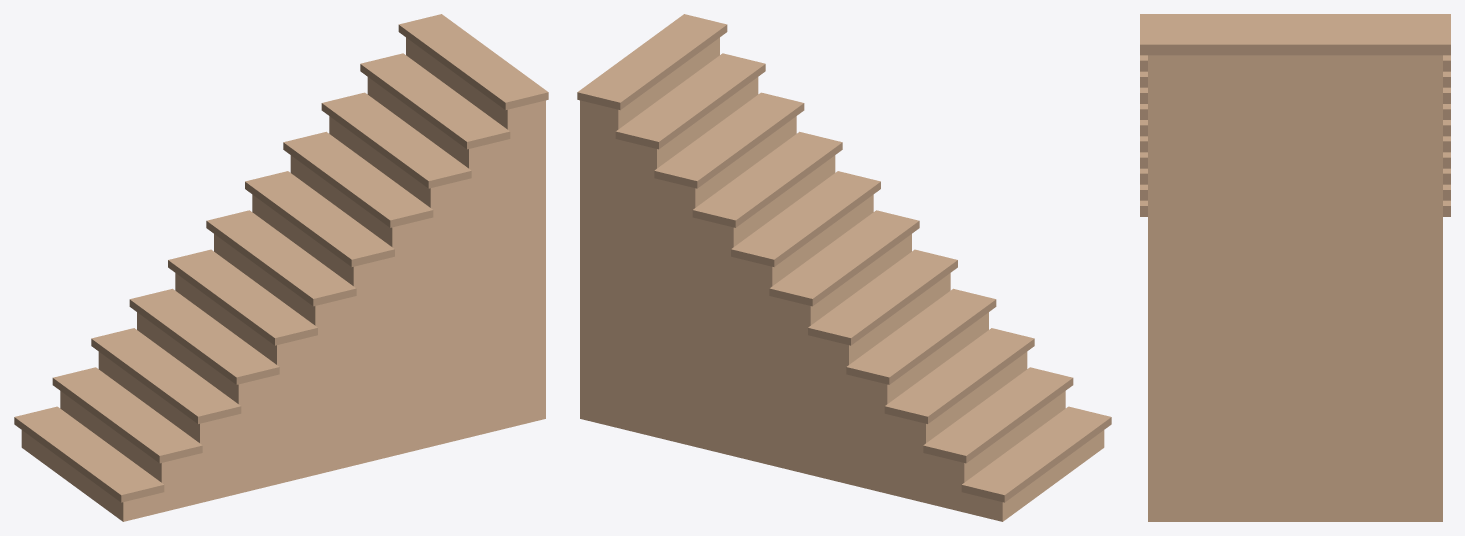
The model's file is stairs.glb.
3 views of the same model, side by side, from view 1: azimuth 30°, elevation 25°; view 2: azimuth 150°, elevation 25°; view 3: azimuth 270°, elevation 25° (orthographic). The views are drawn at different scales.
Parts seen in each view (by area): view 1: stairs; view 2: stairs; view 3: stairs.
Part boxes in pixels (x1,y1,x2,y2): stairs: [14, 14, 548, 521]; stairs: [577, 14, 1111, 521]; stairs: [1140, 14, 1450, 521].
Bounding box in the file's own units: 5.29 × 3.88 × 2.29.
